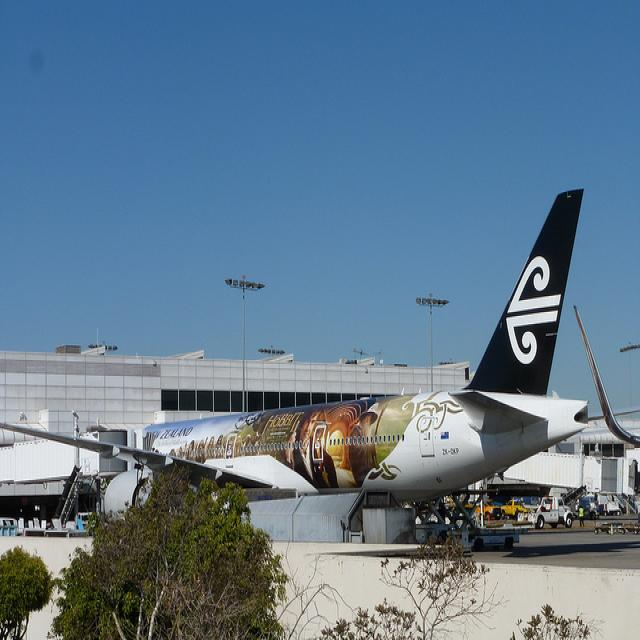Vehicle: (517, 496, 577, 529), (501, 500, 531, 520), (475, 498, 501, 520)
